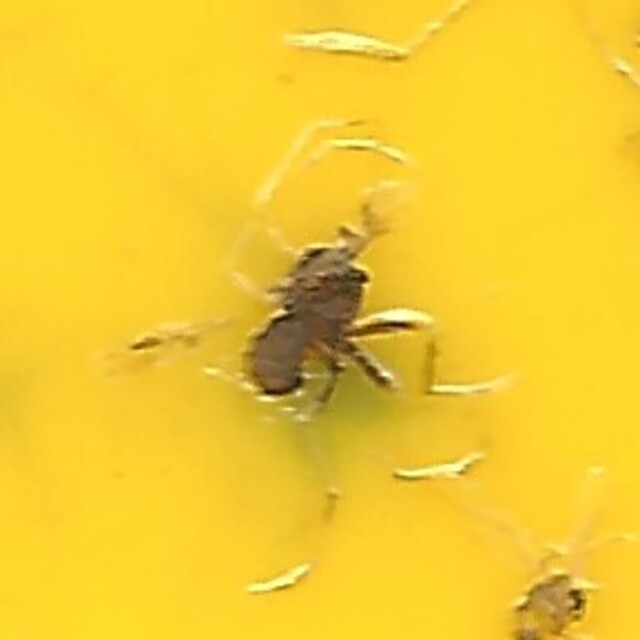Nematocera: (221, 225, 419, 415)
